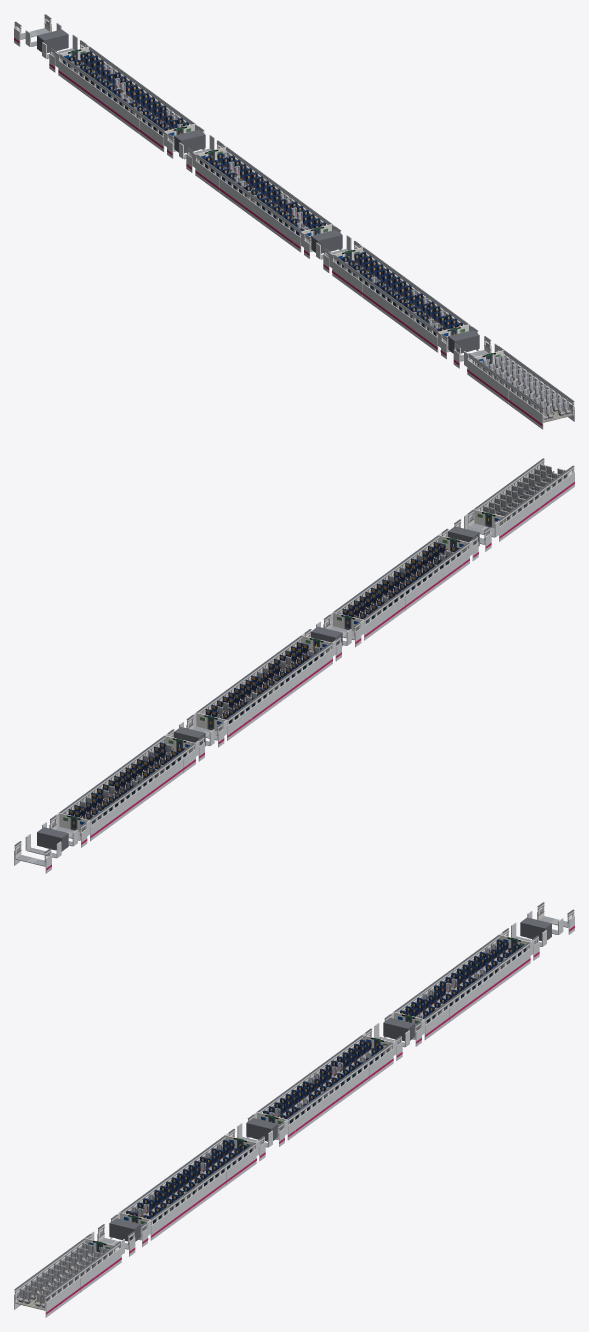
The model's file is car_ekonomiNewGenDual.glb.
3 renders of one model, top to bottom at view 1: azimuth 30°, elevation 25°; view 2: azimuth 150°, elevation 25°; view 3: azimuth 330°, elevation 25°, orthographic.
Parts seen in each view (by area): view 1: global_st_0, global_st_2, global_st_3, global_st_1; view 2: global_st_3; view 3: global_st_0, global_st_2, global_st_3, global_st_1.
Part boxes in pixels (left/top/right/bottom): global_st_0: left=448, top=330, right=479, bottom=353; global_st_2: left=174, top=129, right=205, bottom=153; global_st_3: left=37, top=29, right=68, bottom=52; global_st_1: left=311, top=230, right=342, bottom=253; global_st_3: left=37, top=827, right=68, bottom=851; global_st_0: left=109, top=1218, right=140, bottom=1241; global_st_2: left=383, top=1017, right=414, bottom=1041; global_st_3: left=520, top=917, right=551, bottom=940; global_st_1: left=246, top=1118, right=277, bottom=1141.
Size of the model in its own units: 3.39 by 2.07 by 95.87.
41 materials, 7 textured.
